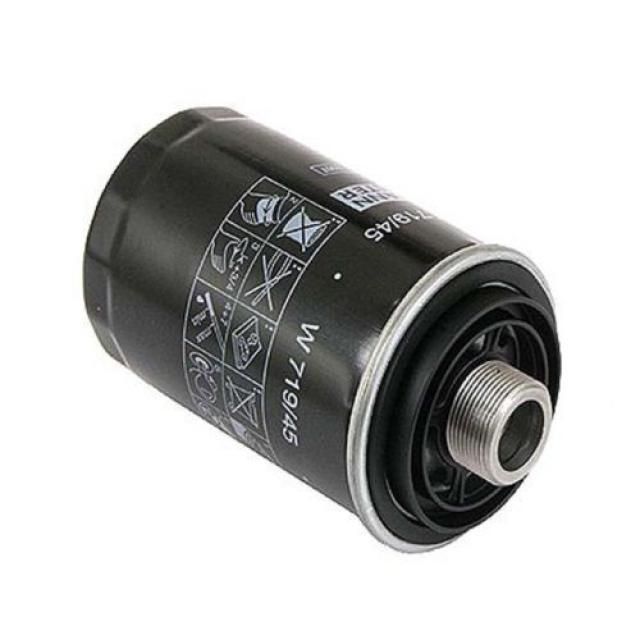oil_filter: (80, 98, 572, 556)
